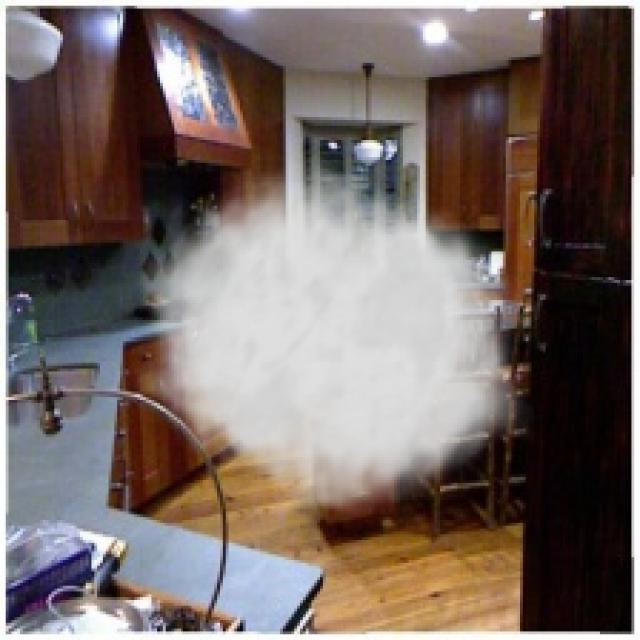Smoke: (135, 151, 534, 523)
